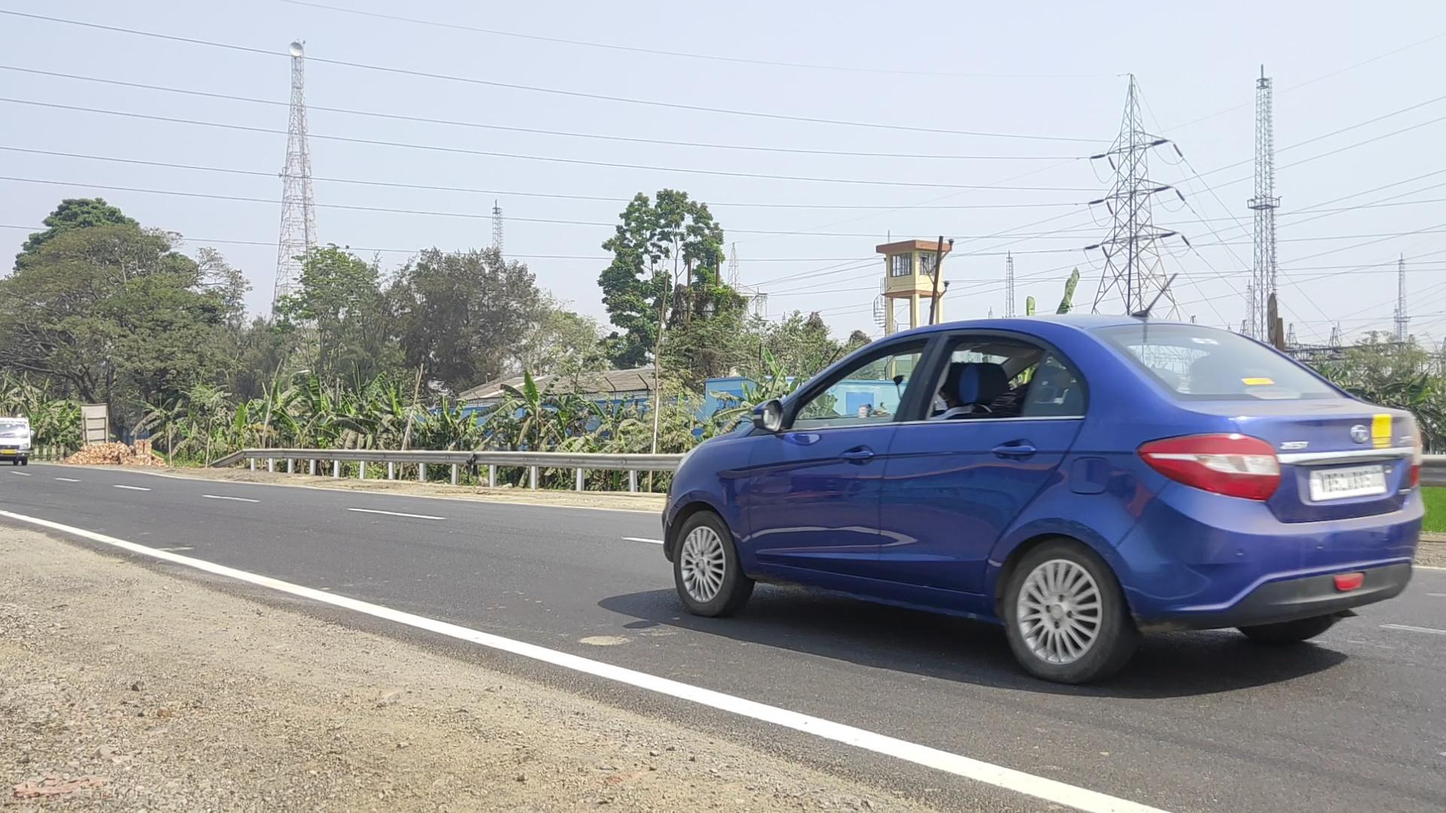car: (660, 310, 1426, 686)
van: (1, 417, 32, 467)
